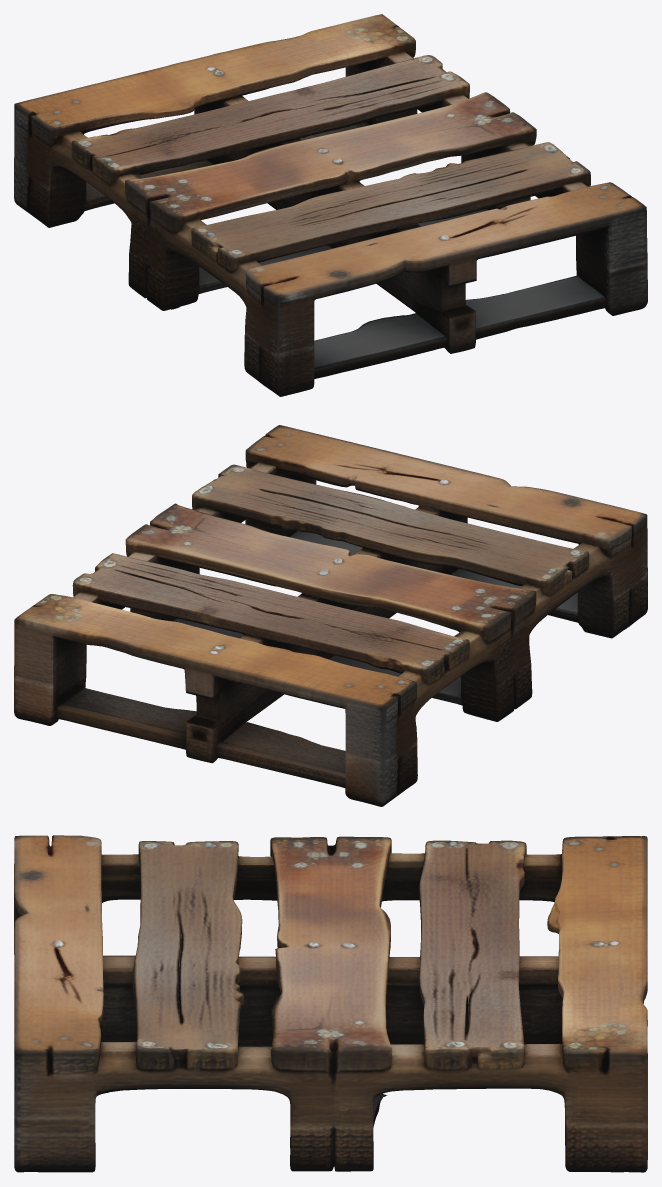
The model's file is wooden_pallet.glb.
3 renders of one model, top to bottom at view 1: azimuth 30°, elevation 25°; view 2: azimuth 150°, elevation 25°; view 3: azimuth 270°, elevation 25°, orthographic. The views are drawn at different scales.
Visible parts, largest first — view 1: world_0; view 2: world_0; view 3: world_0.
Part boxes in pixels (bbox=[...]): world_0: bbox=[14, 14, 647, 396]; world_0: bbox=[14, 425, 647, 806]; world_0: bbox=[14, 835, 647, 1172].
Bounding box in the file's own units: 0.8116 × 0.2261 × 1.
1 material, 1 textured.
